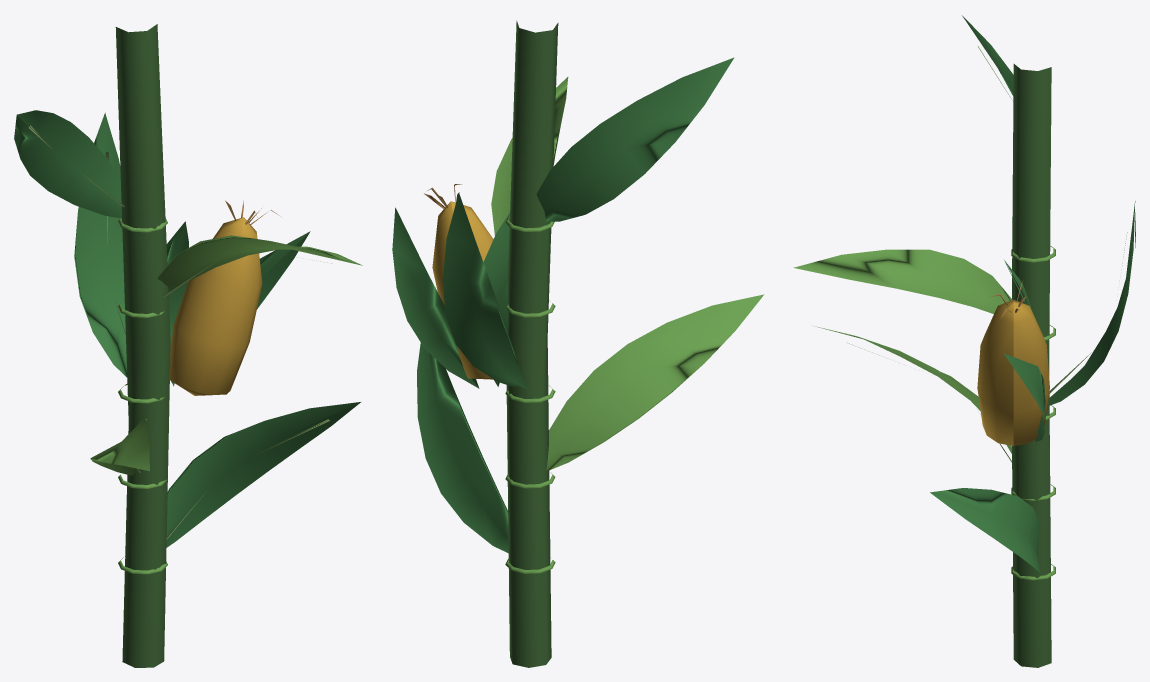
The model's file is maiz_2_lod.glb.
The picture shows the model from 3 angles, left to right: view 1: azimuth 30°, elevation 25°; view 2: azimuth 150°, elevation 25°; view 3: azimuth 270°, elevation 25°; orthographic projection. The views are drawn at different scales.
Visible parts, largest first — view 1: maiz_2_caña_0; view 2: maiz_2_caña_0; view 3: maiz_2_caña_0.
Part boxes in pixels (x1,y1,x2,y2): maiz_2_caña_0: (14,24,362,667); maiz_2_caña_0: (392,20,764,667); maiz_2_caña_0: (793,15,1135,667).
Bounding box in the file's own units: 0.4413 × 0.8214 × 0.4297.
